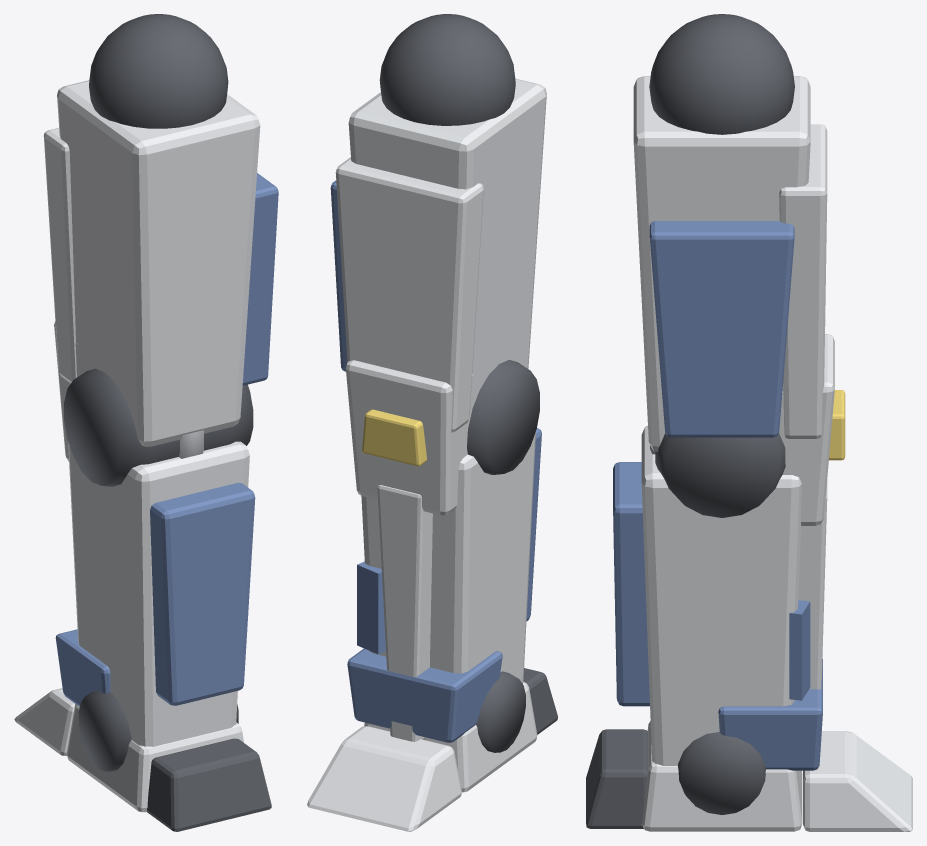
Rendered from leg_general_r.glb.
The picture shows the model from 3 angles, left to right: view 1: azimuth 30°, elevation 25°; view 2: azimuth 150°, elevation 25°; view 3: azimuth 270°, elevation 25°; orthographic projection. The views are drawn at different scales.
Parts seen in each view (by area): view 1: thigh, shin, calf, hip_joint, knee, heel, thigh_front, thigh_side, foot, ankle, ankle_guard, toe (+2 smaller); view 2: thigh_front, thigh, shin, hip_joint, toe, knee_cap, shin_ridge, ankle_guard, knee, foot, ankle, knee_trim (+4 smaller); view 3: shin, thigh_side, thigh, hip_joint, thigh_front, toe, knee, calf, foot, ankle_guard, heel, ankle (+4 smaller).
Boxes of the visible parts, x1,y1,x2,y2 form: thigh: [57, 80, 260, 446]; shin: [68, 441, 249, 746]; calf: [150, 482, 255, 705]; hip_joint: [89, 14, 228, 128]; knee: [64, 368, 253, 486]; heel: [147, 738, 271, 831]; thigh_front: [43, 128, 76, 383]; thigh_side: [242, 173, 278, 385]; foot: [67, 704, 243, 812]; ankle: [78, 691, 238, 771]; ankle_guard: [55, 629, 110, 705]; toe: [14, 688, 75, 755]; thigh_front: [335, 157, 483, 432]; thigh: [348, 78, 546, 407]; shin: [361, 431, 535, 683]; hip_joint: [379, 14, 515, 125]; toe: [307, 726, 461, 831]; knee_cap: [345, 360, 473, 515]; shin_ridge: [377, 485, 432, 741]; ankle_guard: [347, 648, 502, 742]; knee: [467, 359, 539, 474]; foot: [364, 681, 537, 792]; ankle: [476, 671, 525, 752]; knee_trim: [362, 409, 426, 466]; shin: [641, 425, 801, 765]; thigh_side: [649, 221, 794, 437]; thigh: [633, 76, 810, 451]; hip_joint: [649, 14, 794, 134]; thigh_front: [779, 124, 827, 438]; toe: [803, 731, 912, 831]; knee: [655, 433, 785, 517]; calf: [613, 462, 649, 706]; foot: [642, 721, 802, 831]; ankle_guard: [718, 658, 822, 770]; heel: [586, 729, 647, 828]; ankle: [678, 732, 765, 814].
Size of the model in its own units: 1.95 by 9.09 by 3.43.
